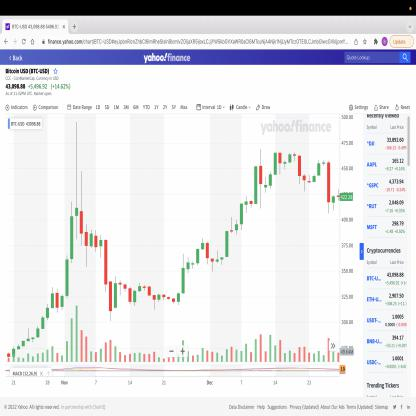Bullish: 3 White Soldiers: (60, 199, 74, 313), (40, 285, 55, 333), (35, 302, 50, 340)
